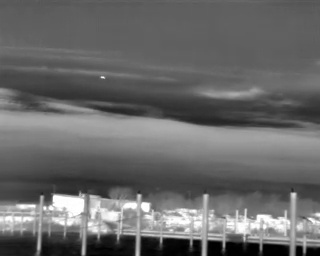BIRD: (98, 73, 107, 82)
